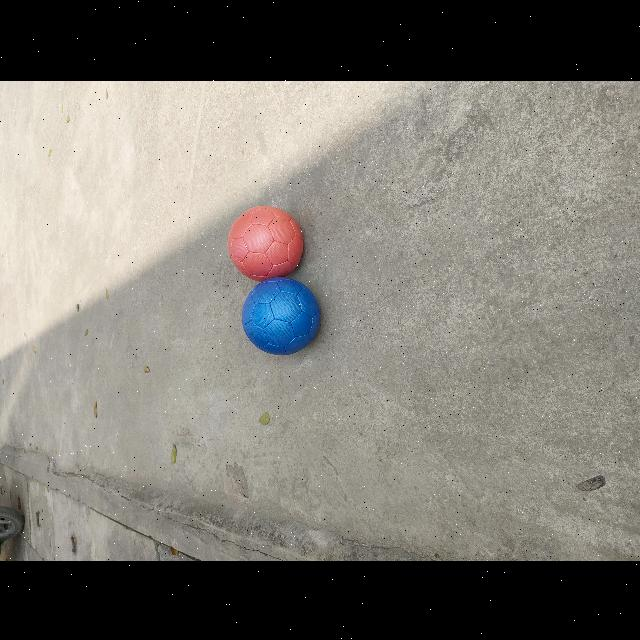B: (243, 277, 324, 356)
R: (228, 205, 307, 281)
